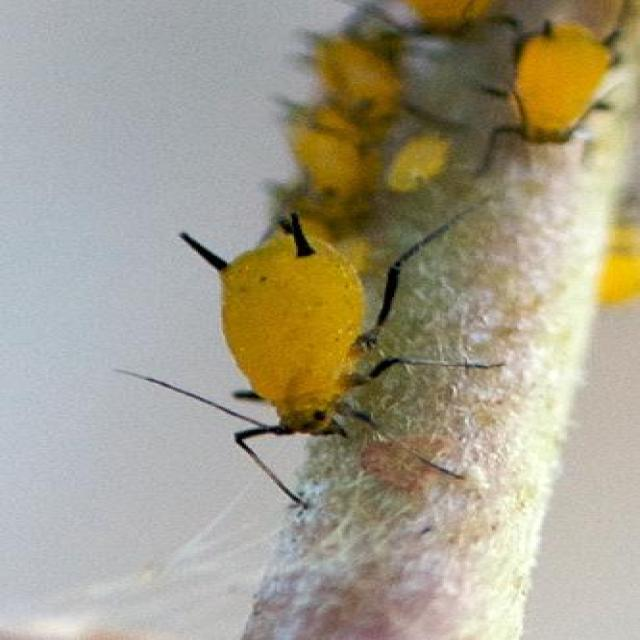Aphids: (138, 205, 438, 498)
